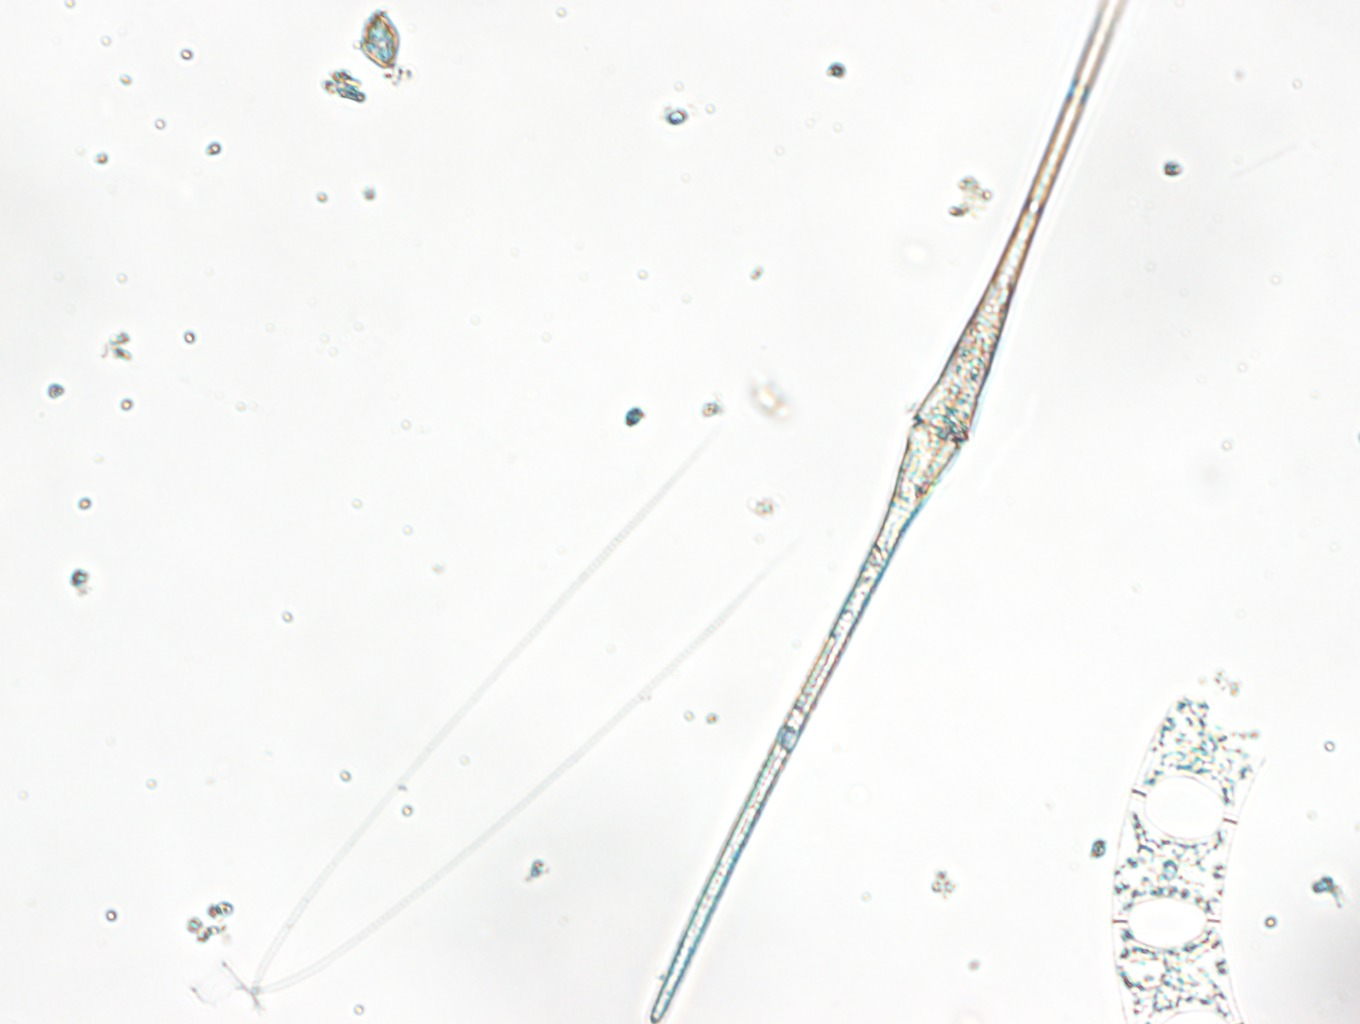ceratium fusus: (649, 1, 1125, 1024)
eucampia: (1111, 670, 1263, 1024)
